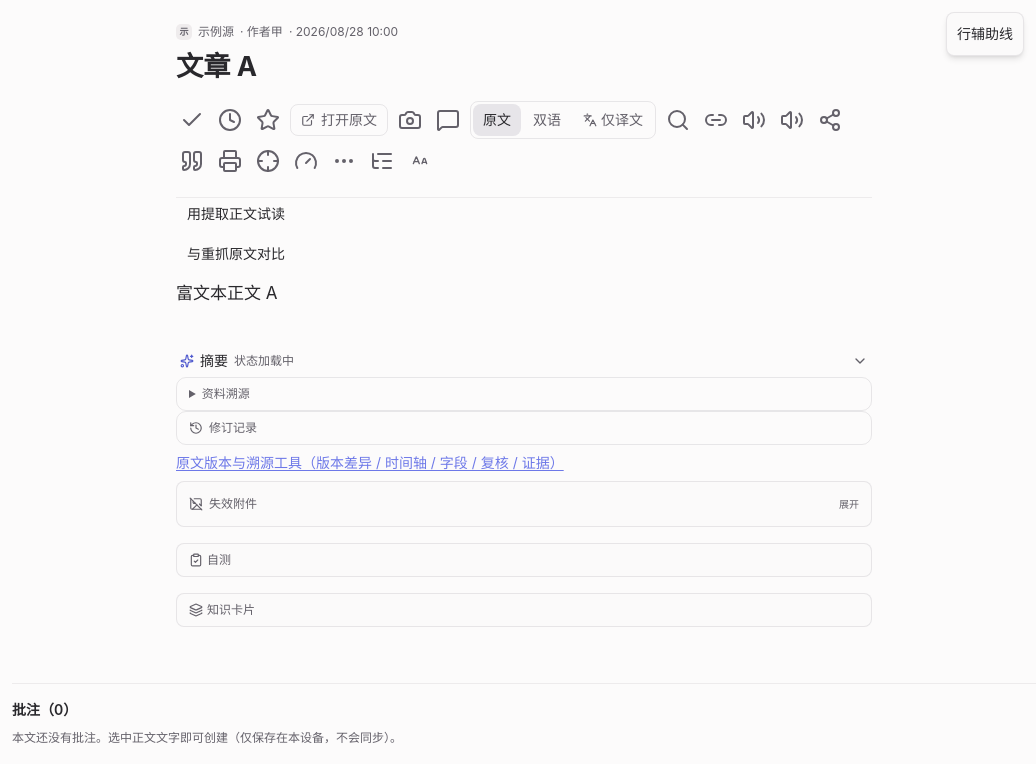
Test: F24 — 复制引用 › 无选区 → 仅标题/来源/链接；剪贴板失败 → 只读文本框诚实降级
Expected: the heading "文章 A" is shown, [176,50,257,83]
Click the button named "复制引用" at (192, 161), box [176,145,208,177]
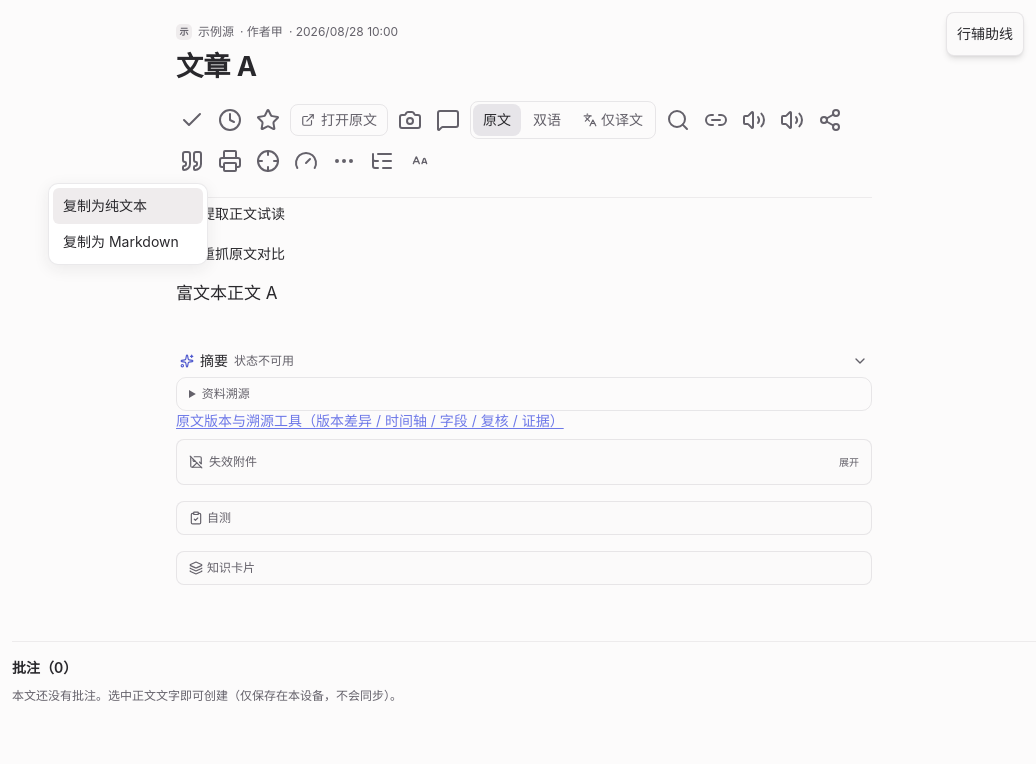
Click the menu item "复制为纯文本" at (128, 206), box [53,188,203,224]
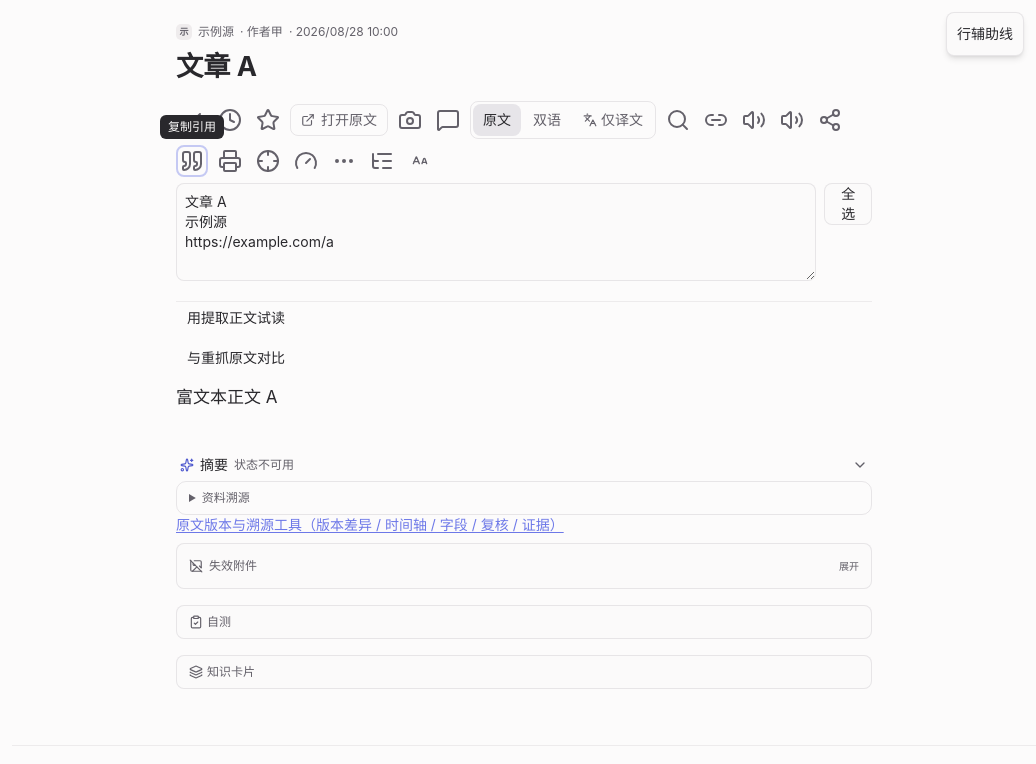
Expected: the button "全选" is shown, [824,183,872,225]
